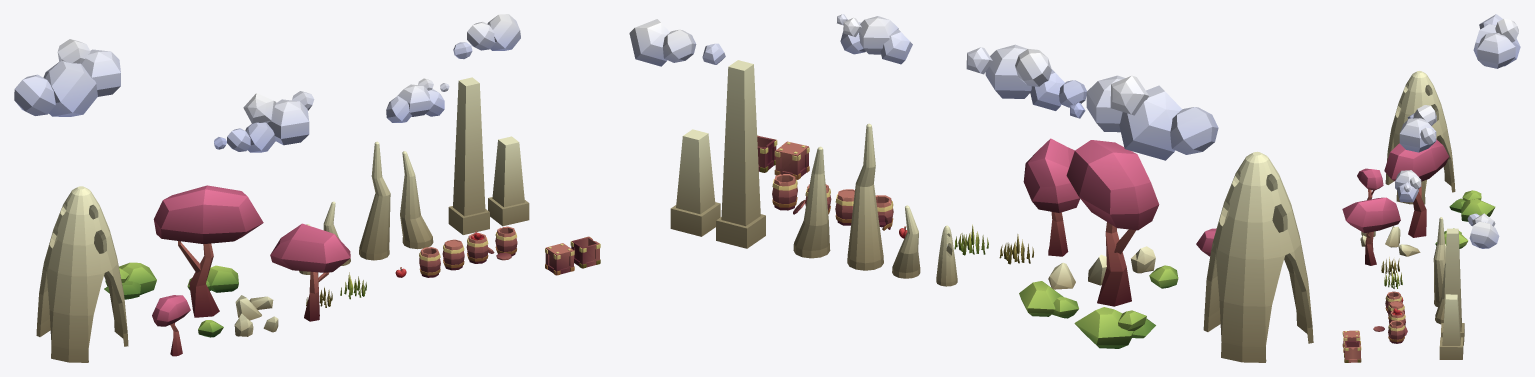
Rendered from ASSETS_FINAL.fbx.
3 views of the same model, side by side, from view 1: azimuth 30°, elevation 25°; view 2: azimuth 150°, elevation 25°; view 3: azimuth 270°, elevation 25° (orthographic). The views are drawn at different scales.
Visible parts, largest first — view 1: Cone, big head, nube 1, Cube, nube 3, little head.001, Cube.001, Cone.002, nube 2, nube 4, Cone.005, little head (+8 smaller); view 2: Cone, big head, nube 1, Cube, nube 3, Cube.001, little head.001, Cone.002, nube 2, nube 4, Cone.005, Cylinder.001 (+8 smaller); view 3: Cone, big head, nube 1, little head.001, nube 3, Cube, Cube.001, nube 2, Cylinder.001, Cone.002, nube 4, little head (+11 smaller).
Part boxes in pixels (bbox=[...]): Cone: bbox=[36, 186, 128, 362]; big head: bbox=[153, 185, 263, 317]; nube 1: bbox=[14, 39, 120, 116]; Cube: bbox=[448, 77, 489, 234]; nube 3: bbox=[214, 91, 314, 152]; little head.001: bbox=[270, 223, 350, 321]; Cube.001: bbox=[488, 136, 529, 226]; Cone.002: bbox=[359, 141, 390, 260]; nube 2: bbox=[453, 14, 520, 59]; nube 4: bbox=[386, 78, 449, 122]; Cone.005: bbox=[400, 151, 433, 249]; little head: bbox=[152, 295, 190, 356]; Cone: bbox=[1203, 151, 1313, 362]; big head: bbox=[1066, 140, 1159, 306]; nube 1: bbox=[1086, 75, 1218, 160]; Cube: bbox=[716, 60, 765, 248]; nube 3: bbox=[966, 44, 1086, 118]; Cube.001: bbox=[670, 129, 720, 236]; little head.001: bbox=[1023, 138, 1080, 256]; Cone.002: bbox=[847, 123, 883, 270]; nube 2: bbox=[629, 19, 725, 66]; nube 4: bbox=[837, 14, 912, 64]; Cone.005: bbox=[793, 146, 830, 258]; Cylinder.001: bbox=[1074, 307, 1155, 348]; Cone: bbox=[1385, 71, 1455, 204]; big head: bbox=[1384, 139, 1449, 237]; nube 1: bbox=[1473, 14, 1520, 68]; little head.001: bbox=[1342, 197, 1400, 265]; nube 3: bbox=[1399, 105, 1436, 152]; Cube: bbox=[1441, 228, 1464, 345]; Cube.001: bbox=[1439, 294, 1463, 359]; nube 2: bbox=[1467, 213, 1499, 248]; Cylinder.001: bbox=[1449, 190, 1495, 221]; Cone.002: bbox=[1433, 217, 1445, 306]; nube 4: bbox=[1395, 170, 1421, 202]; little head: bbox=[1357, 168, 1383, 199].
Size of the model in its own units: 7046 by 3243 by 2768.
7 materials, 7 textured.
